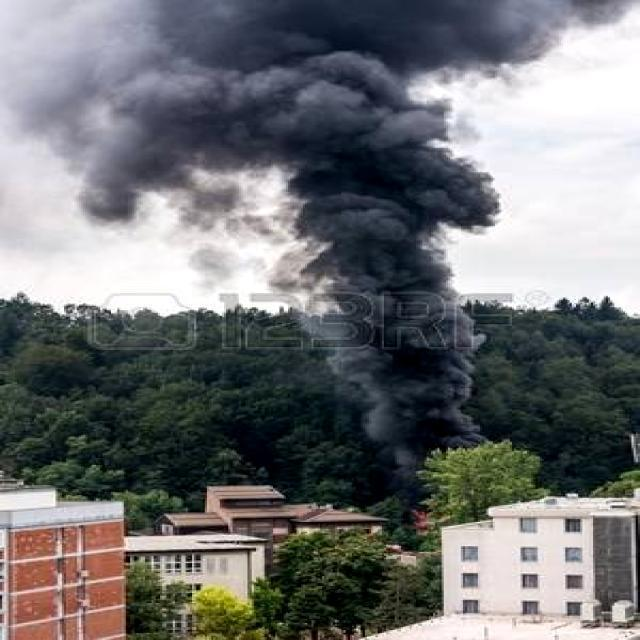Smoke: (128, 0, 502, 464)
